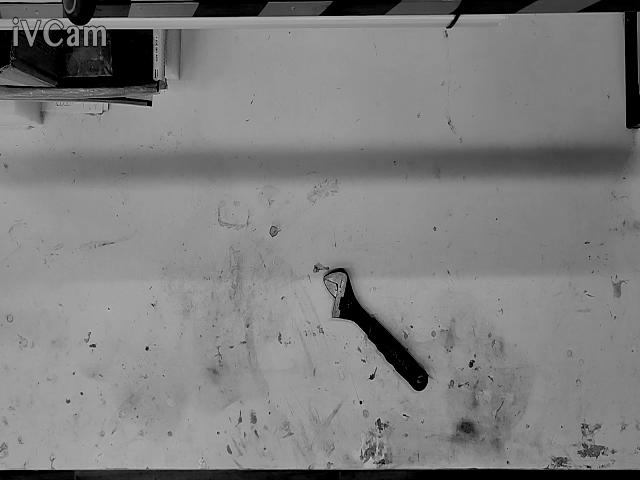Adjustable spanner: (324, 268, 428, 390)
